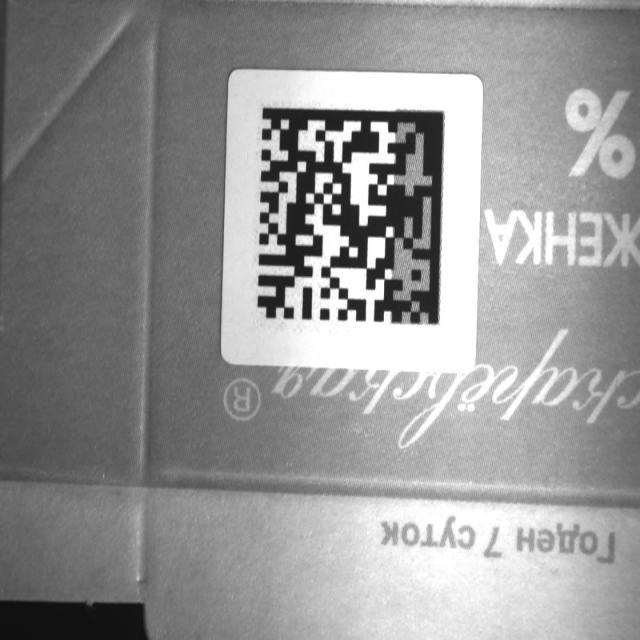datamatrix: (258, 108, 446, 327)
